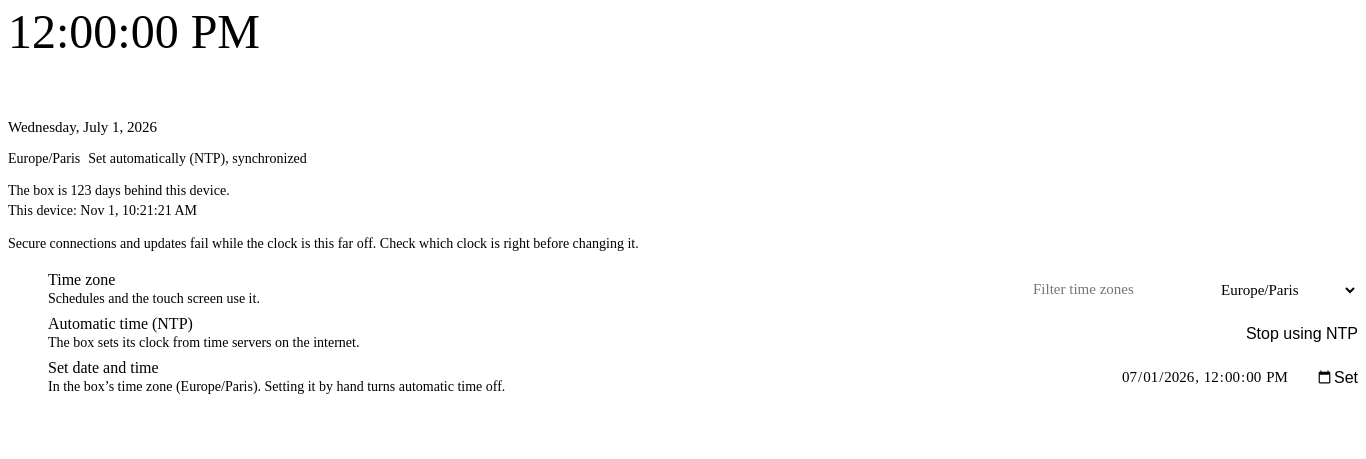
Test: the time zone list at the size the daemon sends › says so when nothing matches, in a live region, and keeps the chosen zone
Type "zzz" into the search field with placeholder "Filter time zones" at (1125, 290), box [1033, 268, 1217, 312]
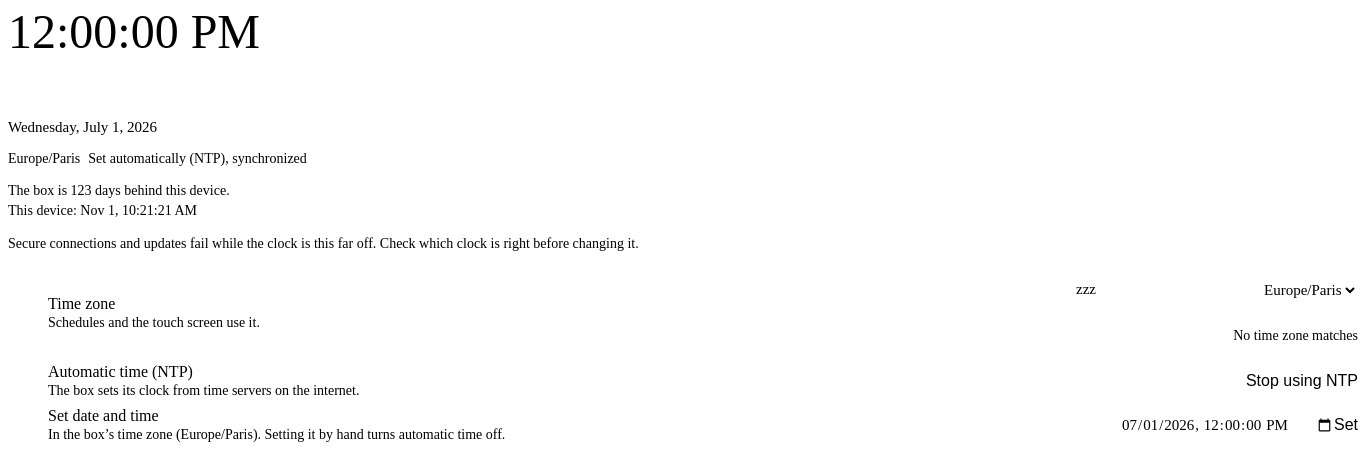
Expected: the message with class "time__none" reads "No time zone matches", [1233, 328, 1358, 343]
